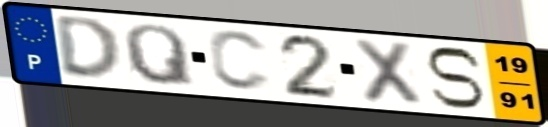2: (278, 33, 340, 102)
C: (206, 28, 275, 94)
D: (51, 15, 125, 83)
Q: (120, 22, 199, 90)
S: (422, 44, 488, 111)
X: (350, 36, 426, 109)
